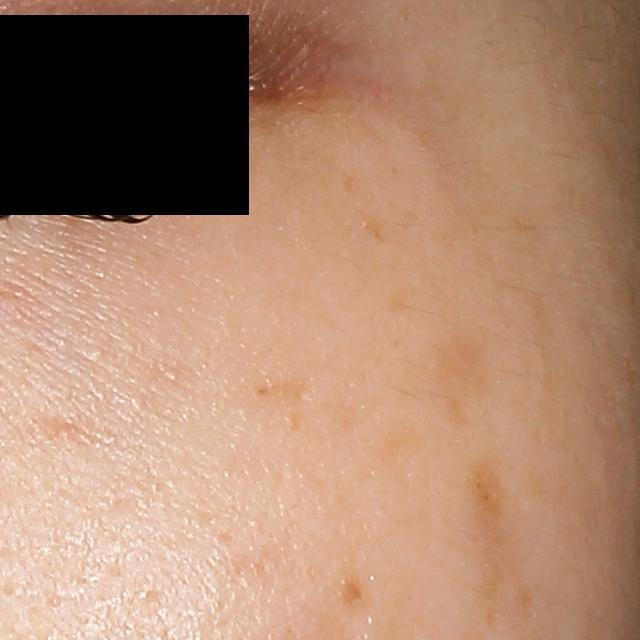melasma: (395, 187, 591, 400), (325, 393, 435, 496), (431, 313, 501, 446), (248, 366, 317, 442), (28, 400, 121, 455), (328, 203, 404, 258)
